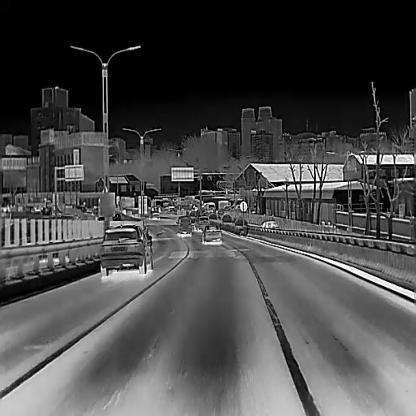car: (99, 223, 153, 276), (201, 223, 222, 243), (176, 215, 191, 233), (262, 219, 279, 231), (198, 215, 209, 229), (150, 210, 160, 218)
